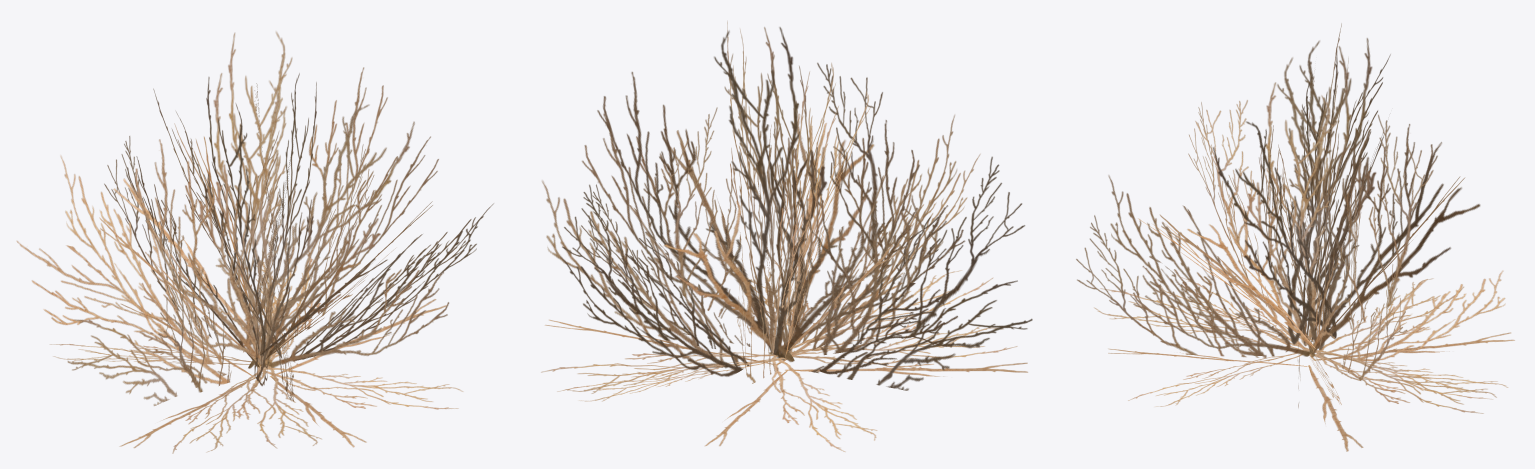
File: grass_dead_a.glb
The picture shows the model from 3 angles, left to right: view 1: azimuth 30°, elevation 25°; view 2: azimuth 150°, elevation 25°; view 3: azimuth 270°, elevation 25°; orthographic projection. The views are drawn at different scales.
Parts seen in each view (by area): view 1: SM_DeadGrass_A_LOD3; view 2: SM_DeadGrass_A_LOD3; view 3: SM_DeadGrass_A_LOD3.
Part boxes in pixels (left/top/right/bottom): SM_DeadGrass_A_LOD3: left=16, top=31, right=493, bottom=453; SM_DeadGrass_A_LOD3: left=541, top=21, right=1032, bottom=451; SM_DeadGrass_A_LOD3: left=1076, top=23, right=1514, bottom=451.
Bounding box in the file's own units: 0.9449 × 0.7 × 0.8206.
Materials: 1 (1 with a texture image).
